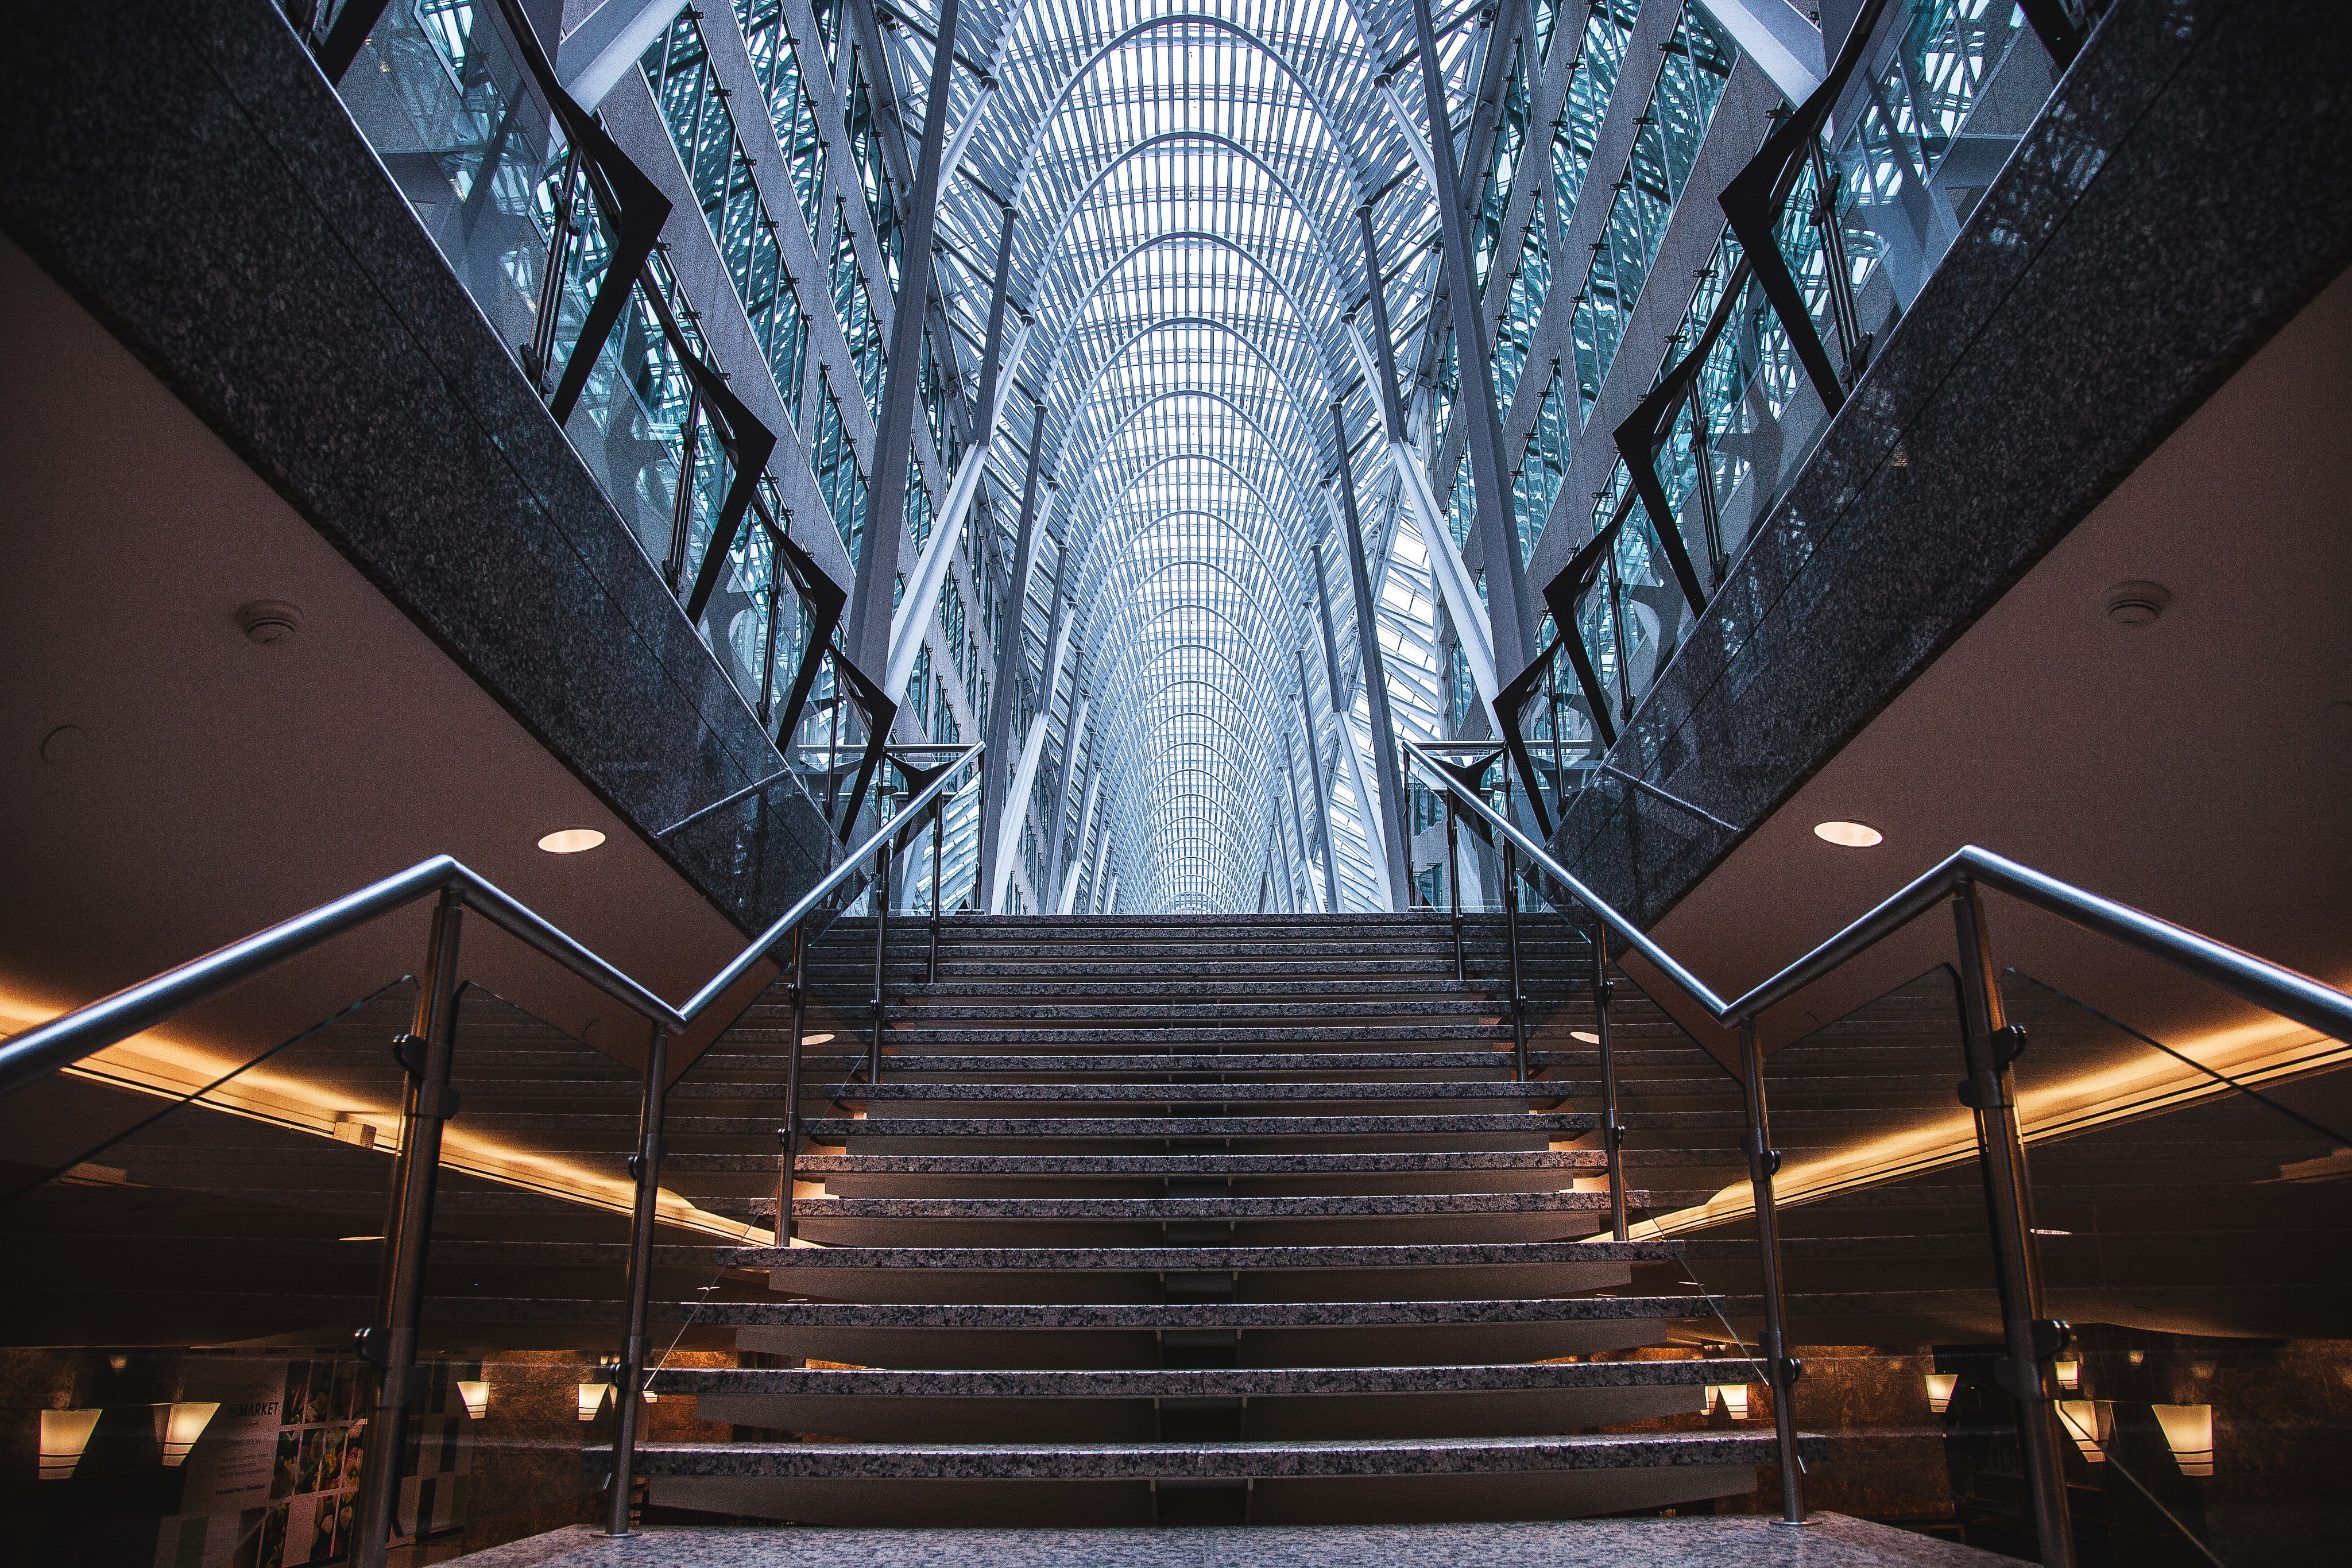upstairs: (885, 1148, 1563, 1568)
